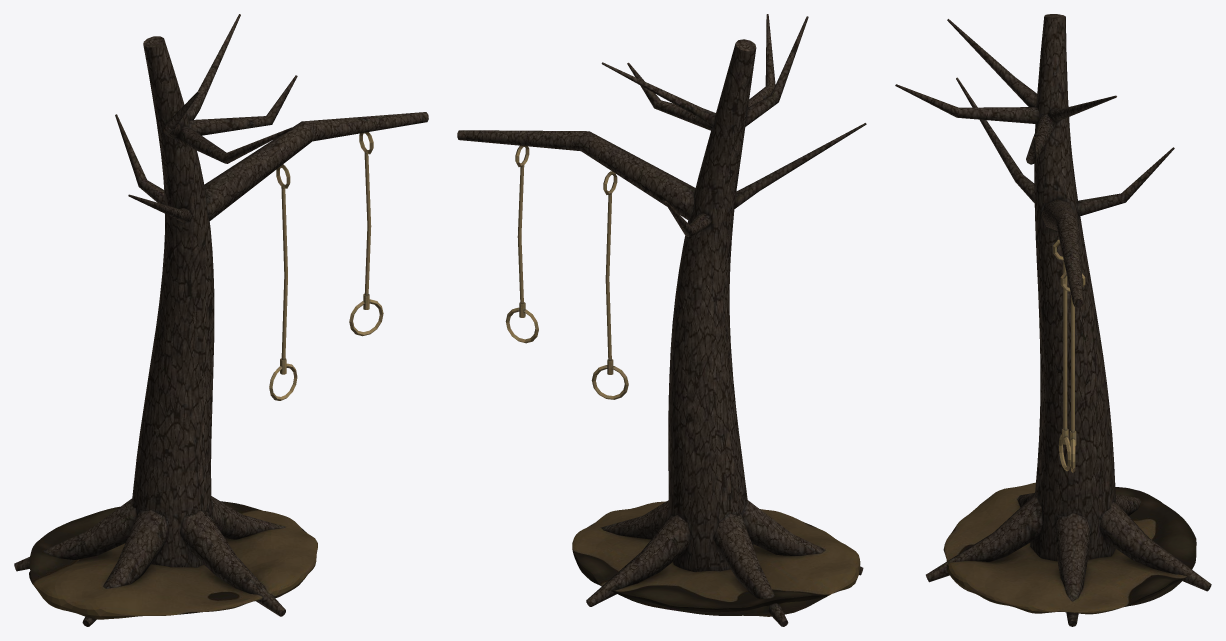
The model's file is mata_arvore_forca_a.glb.
3 views of the same model, side by side, from view 1: azimuth 30°, elevation 25°; view 2: azimuth 150°, elevation 25°; view 3: azimuth 270°, elevation 25° (orthographic). The views are drawn at different scales.
Parts seen in each view (by area): view 1: mata_arvore_forca_a_tronco; view 2: mata_arvore_forca_a_tronco; view 3: mata_arvore_forca_a_tronco.
Part boxes in pixels (x1,y1,x2,y2): mata_arvore_forca_a_tronco: [14, 14, 428, 626]; mata_arvore_forca_a_tronco: [457, 14, 866, 626]; mata_arvore_forca_a_tronco: [895, 14, 1211, 626].
Size of the model in its own units: 4.12 by 5.54 by 2.91.
Materials: 1 (1 with a texture image).
